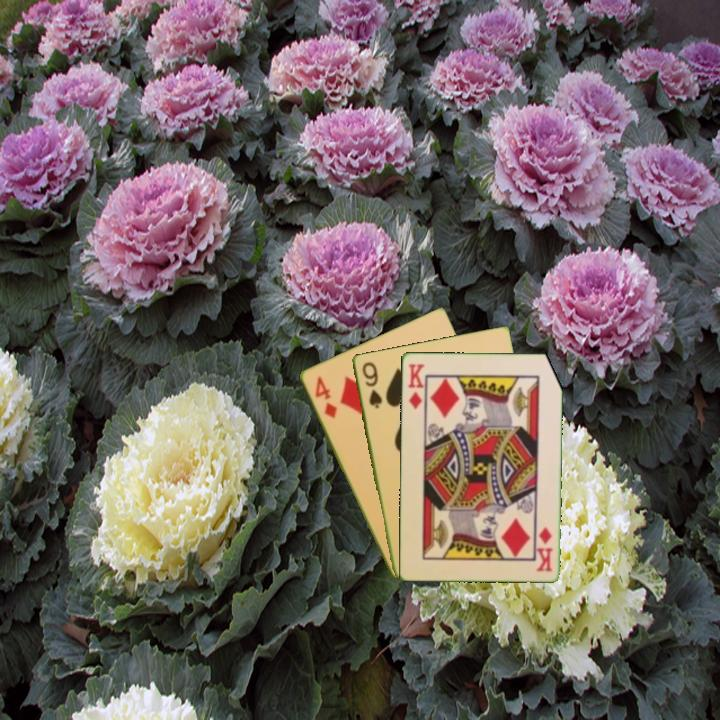4d: (311, 373, 340, 421)
9s: (358, 358, 385, 411)
Kd: (404, 360, 427, 412), (534, 523, 555, 574)
